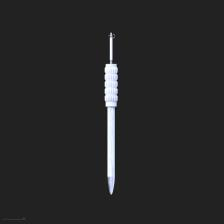POMZ2: (100, 25, 125, 207)
